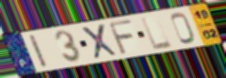0: (170, 11, 197, 45)
3: (55, 29, 83, 65)
F: (107, 19, 137, 57)
I: (27, 33, 50, 69)
L: (139, 15, 175, 52)
X: (79, 22, 120, 61)
